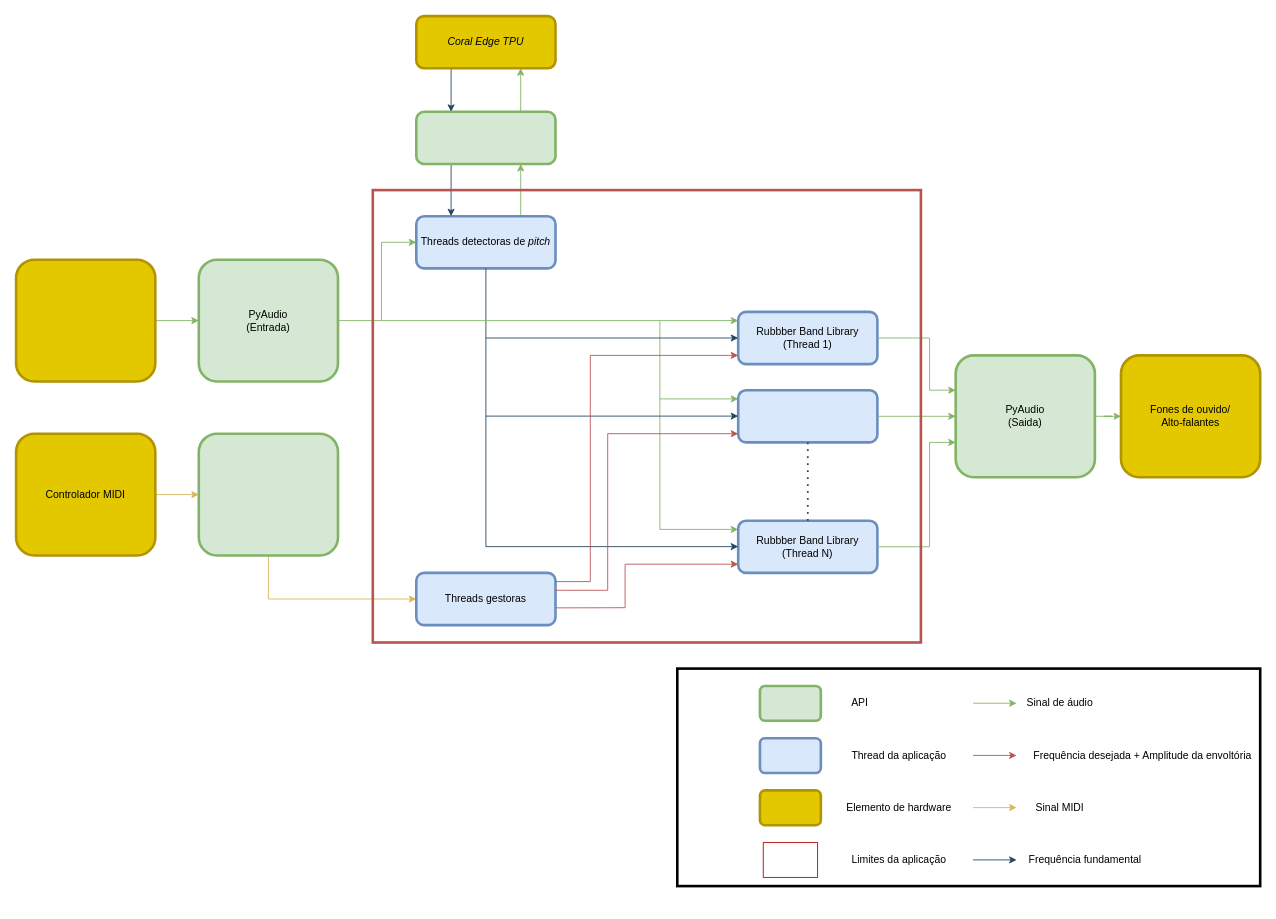
Some shapes in this 1276 by 919 pixel diagram are drawn without their labels. Each missing label, with the centre of its shape:
"Legenda:" goes at (711,702).
"Microfone" goes at (85,320).
"PyCoral" goes at (485,137).
"PyRtMidi (Entrada)" goes at (268,494).
"Rubbber Band Library (Thread 2)" goes at (807,415).
